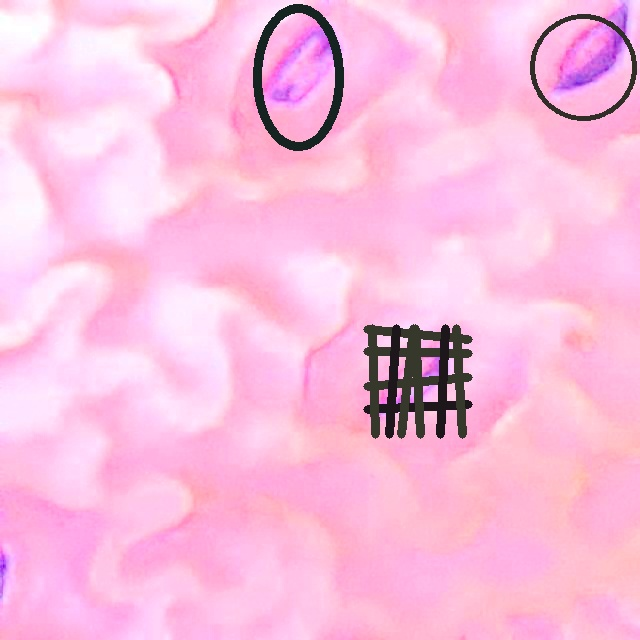open: (253, 3, 344, 151), (363, 324, 472, 438), (530, 14, 636, 120)
